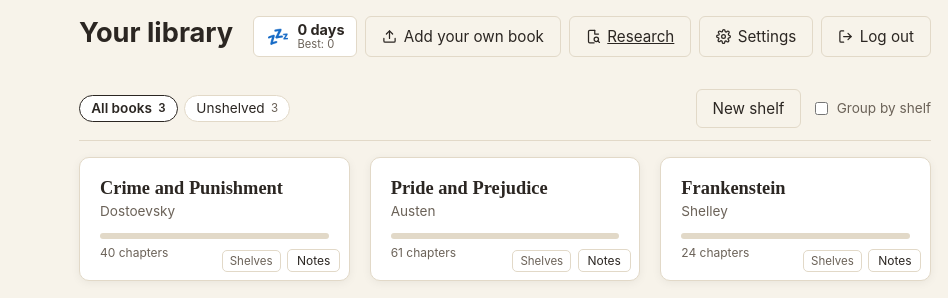
it: the per-book shelves menu › works with no shelves at all
Step 1. Click the button with aria-label "Shelves for Crime and Punishment" → (251, 261), box [222,250,281,272]
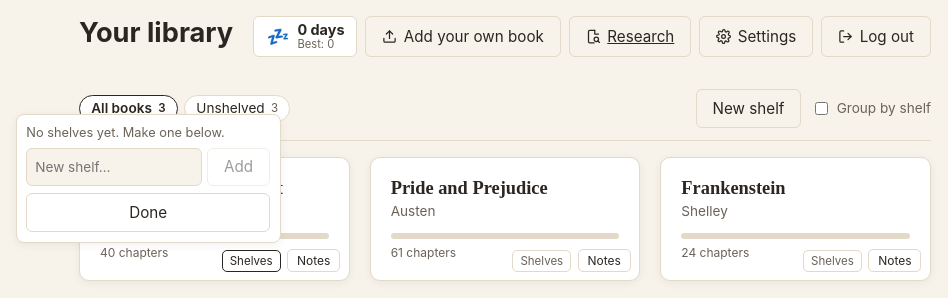
Check: the text "No shelves yet. Make one below." is shown, box [26,125,225,140]
